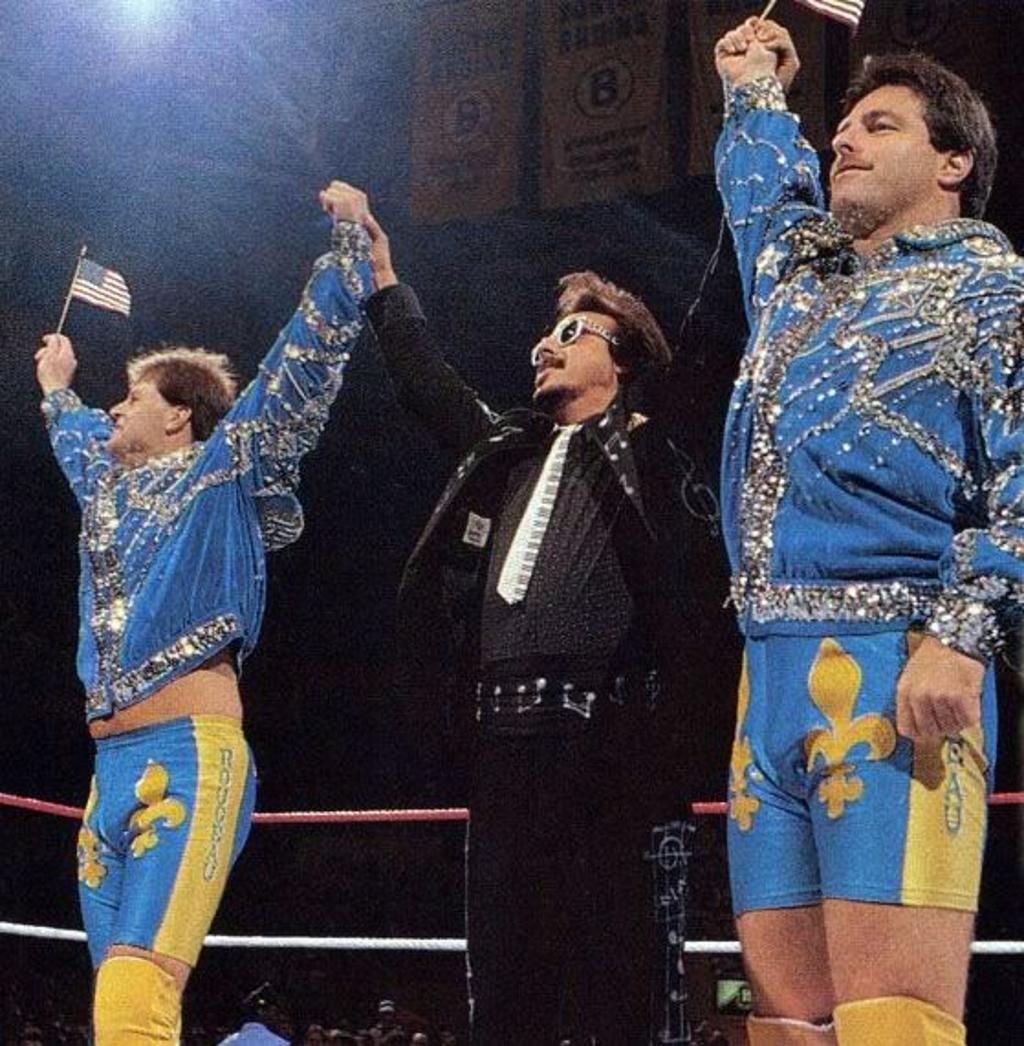face: (826, 88, 932, 221), (529, 302, 609, 402), (104, 370, 167, 456)
